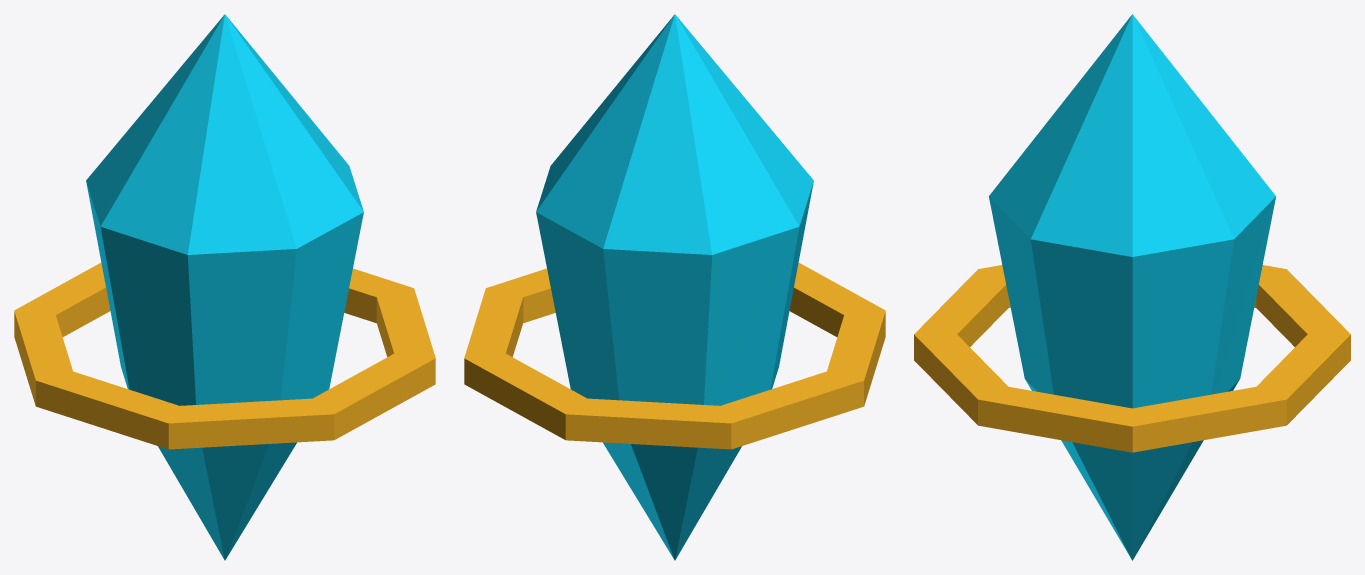
The model's file is EscapeArtifact.obj.
3 views of the same model, side by side, from view 1: azimuth 30°, elevation 25°; view 2: azimuth 150°, elevation 25°; view 3: azimuth 270°, elevation 25° (orthographic).
Visible parts, largest first — view 1: StudentMade_EscapeArtifact, Artifact_Energy_Ring; view 2: StudentMade_EscapeArtifact, Artifact_Energy_Ring; view 3: StudentMade_EscapeArtifact, Artifact_Energy_Ring.
Part boxes in pixels (box(x1,y1,x2,y2)): StudentMade_EscapeArtifact: box(86, 14, 363, 560); Artifact_Energy_Ring: box(14, 263, 435, 449); StudentMade_EscapeArtifact: box(536, 14, 813, 560); Artifact_Energy_Ring: box(464, 263, 885, 449); StudentMade_EscapeArtifact: box(989, 14, 1275, 560); Artifact_Energy_Ring: box(914, 265, 1350, 452).
Bounding box in the file's own units: 1.52 × 2.1 × 1.52.
